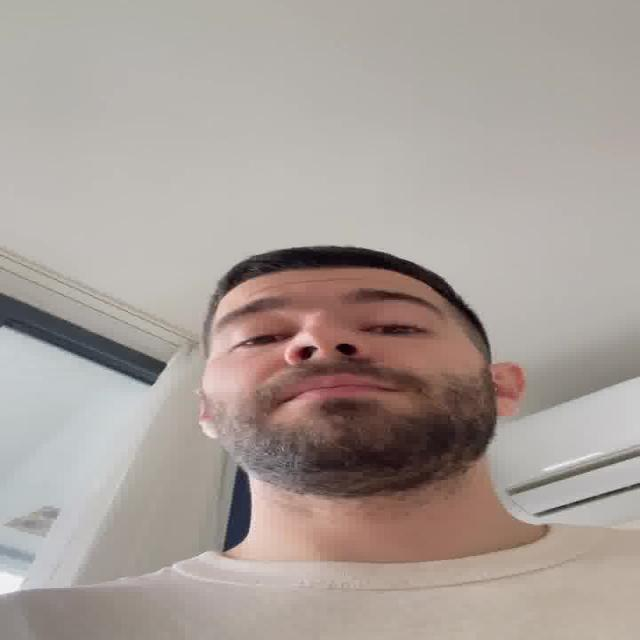earlobe: (195, 424, 226, 441), (495, 398, 521, 417)
eye: (222, 326, 294, 350), (358, 320, 431, 338)
nose: (287, 354, 377, 374)
wholeear: (487, 361, 529, 417)
